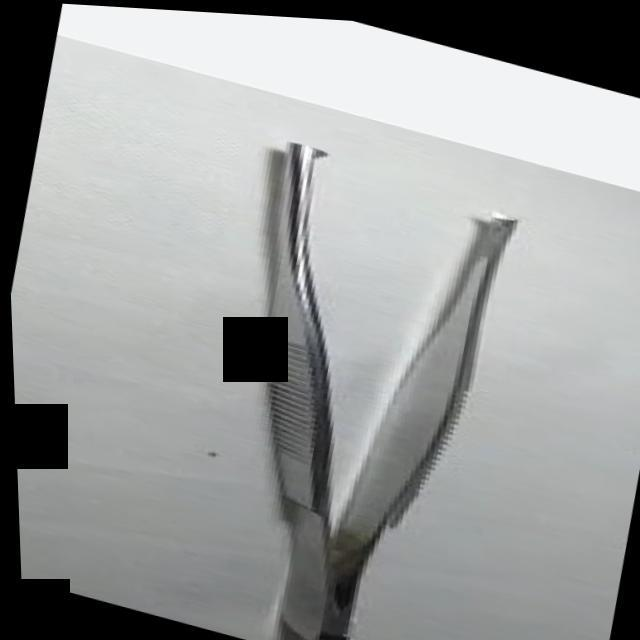Disscting Forceps -tooth-: (154, 120, 594, 640)
